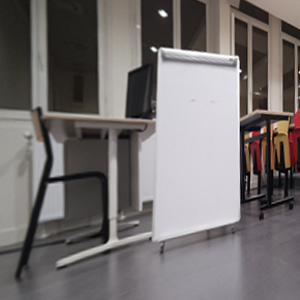big: (154, 46, 243, 240)
